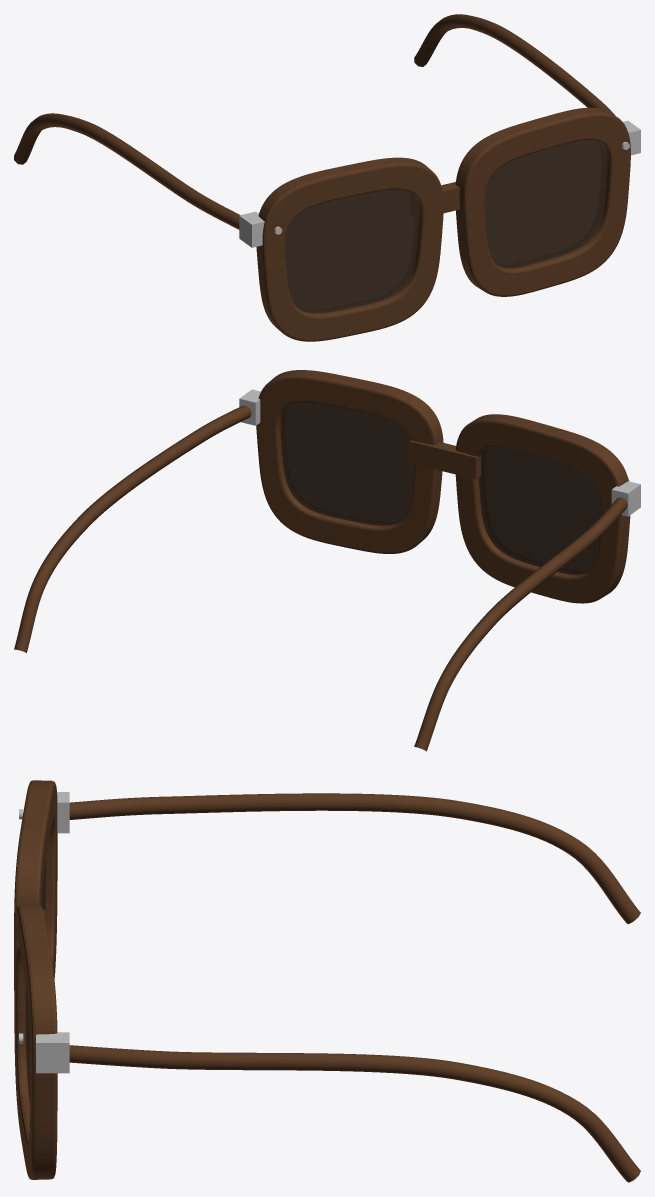
The model's file is gafas-carey.glb.
3 renders of one model, top to bottom at view 1: azimuth 30°, elevation 25°; view 2: azimuth 150°, elevation 25°; view 3: azimuth 270°, elevation 25°, orthographic. The views are drawn at different scales.
Visible parts, largest first — view 1: Marco (×2), Lente (×2), Varilla (×2), Bisagra, Puente; view 2: Marco (×2), Lente (×2), Varilla (×2), Puente, Bisagra (×2); view 3: Varilla (×2), Marco (×2), Bisagra.
Boxes of the visible parts, x1,y1,x2,y2 form: Marco (×2): (256,107,630,341); Lente (×2): (285,140,607,313); Varilla (×2): (14,14,615,229); Bisagra: (239,211,264,247); Puente: (415,182,459,218); Marco (×2): (256,370,630,603); Lente (×2): (280,402,601,574); Varilla (×2): (14,405,627,751); Puente: (409,440,482,479); Bisagra (×2): (239,389,640,516); Varilla (×2): (69,793,640,1182); Marco (×2): (14,780,57,1179); Bisagra: (36,1032,69,1073).
Bounding box in the file's own units: 0.1517 × 0.0569 × 0.1489.
